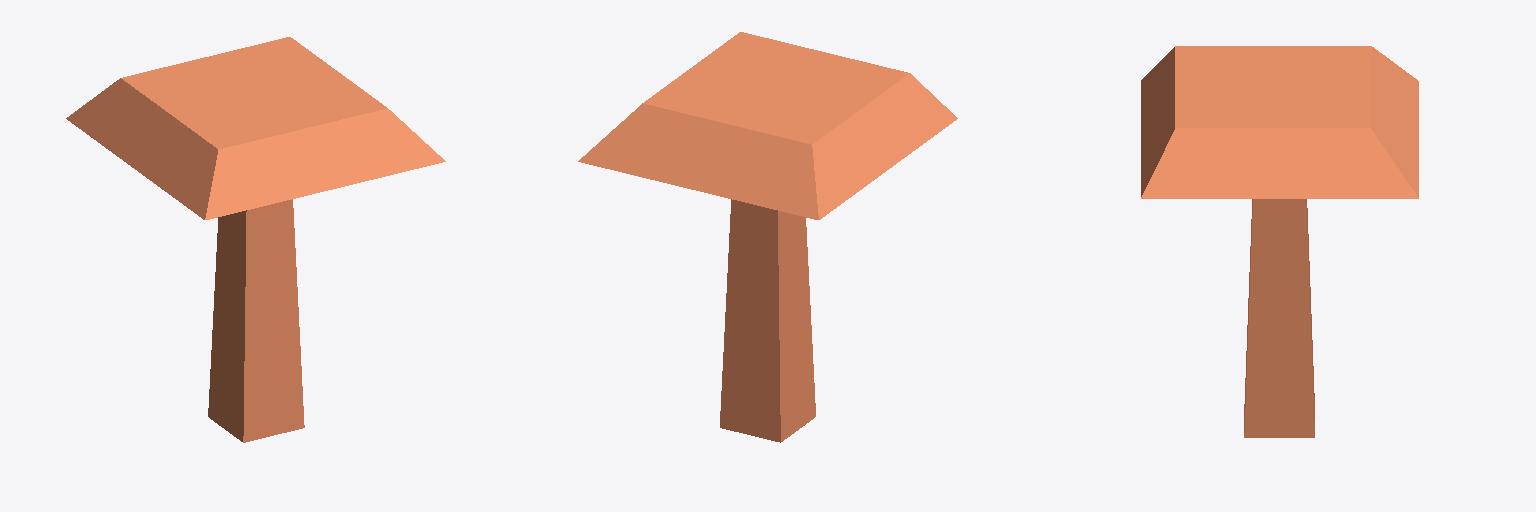
Rendered from cubeshroom.obj.
3 views of the same model, side by side, from view 1: azimuth 30°, elevation 25°; view 2: azimuth 150°, elevation 25°; view 3: azimuth 270°, elevation 25° (orthographic).
Parts seen in each view (by area): view 1: Cube; view 2: Cube; view 3: Cube.
Part boxes in pixels (x1,y1,x2,y2): Cube: (66,37,445,442); Cube: (578,32,957,442); Cube: (1141,46,1418,437).
Size of the model in its own units: 1.59 by 2.1 by 1.59.